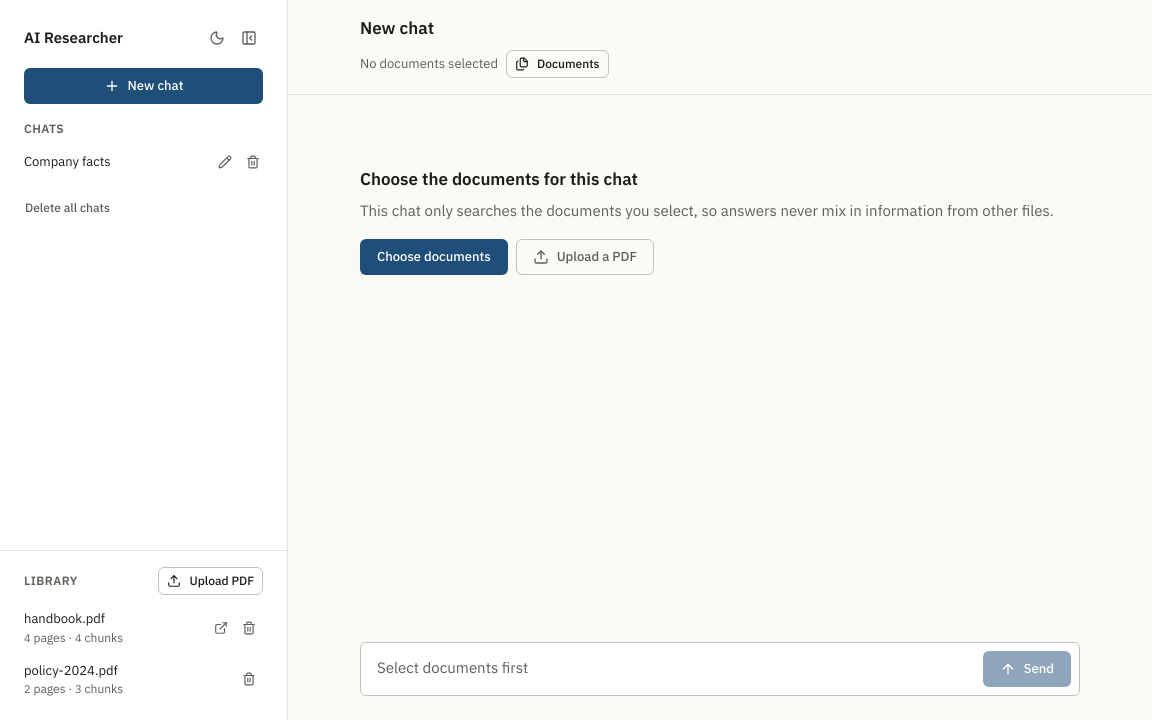
Test: ChatView › does not link a chip whose document has no stored PDF
The width and height of the screenshot is (1152, 720).
Click the button "Company facts" at (112, 162), box [16,146,207,178]
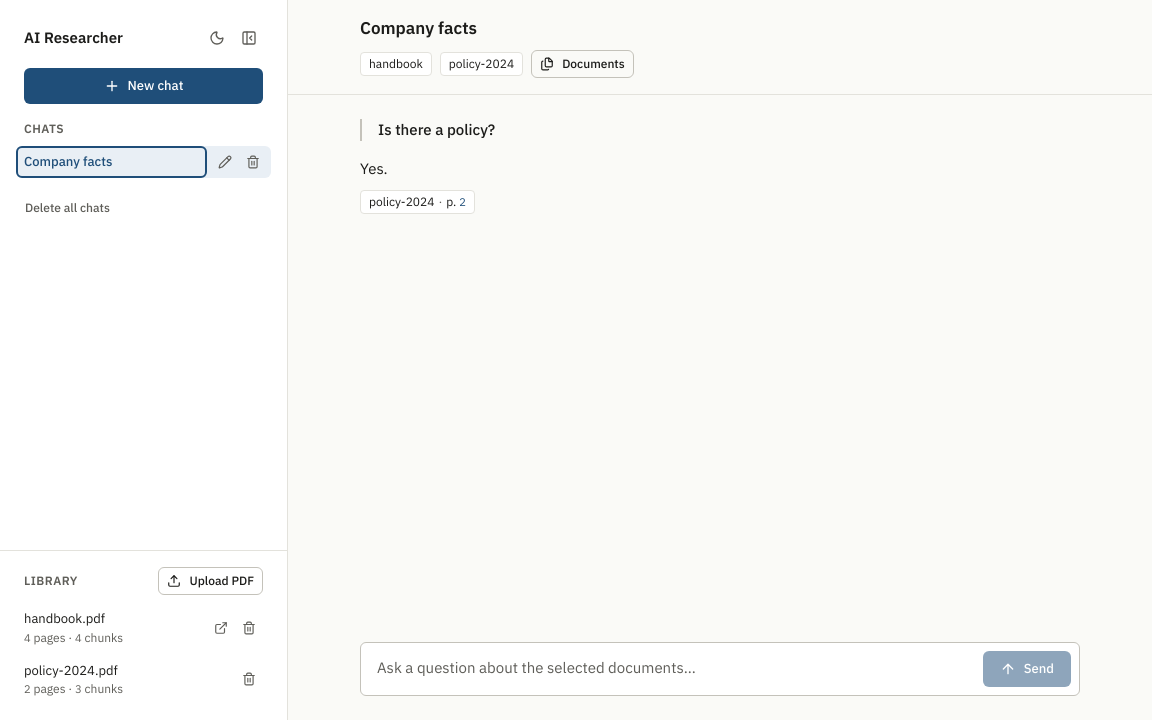
expect the heading "Company facts" is shown: met, box [360,16,477,42]
expect the element named "policy-2024, page 2, relevance 0.70" is shown: met, box [360,190,475,214]
